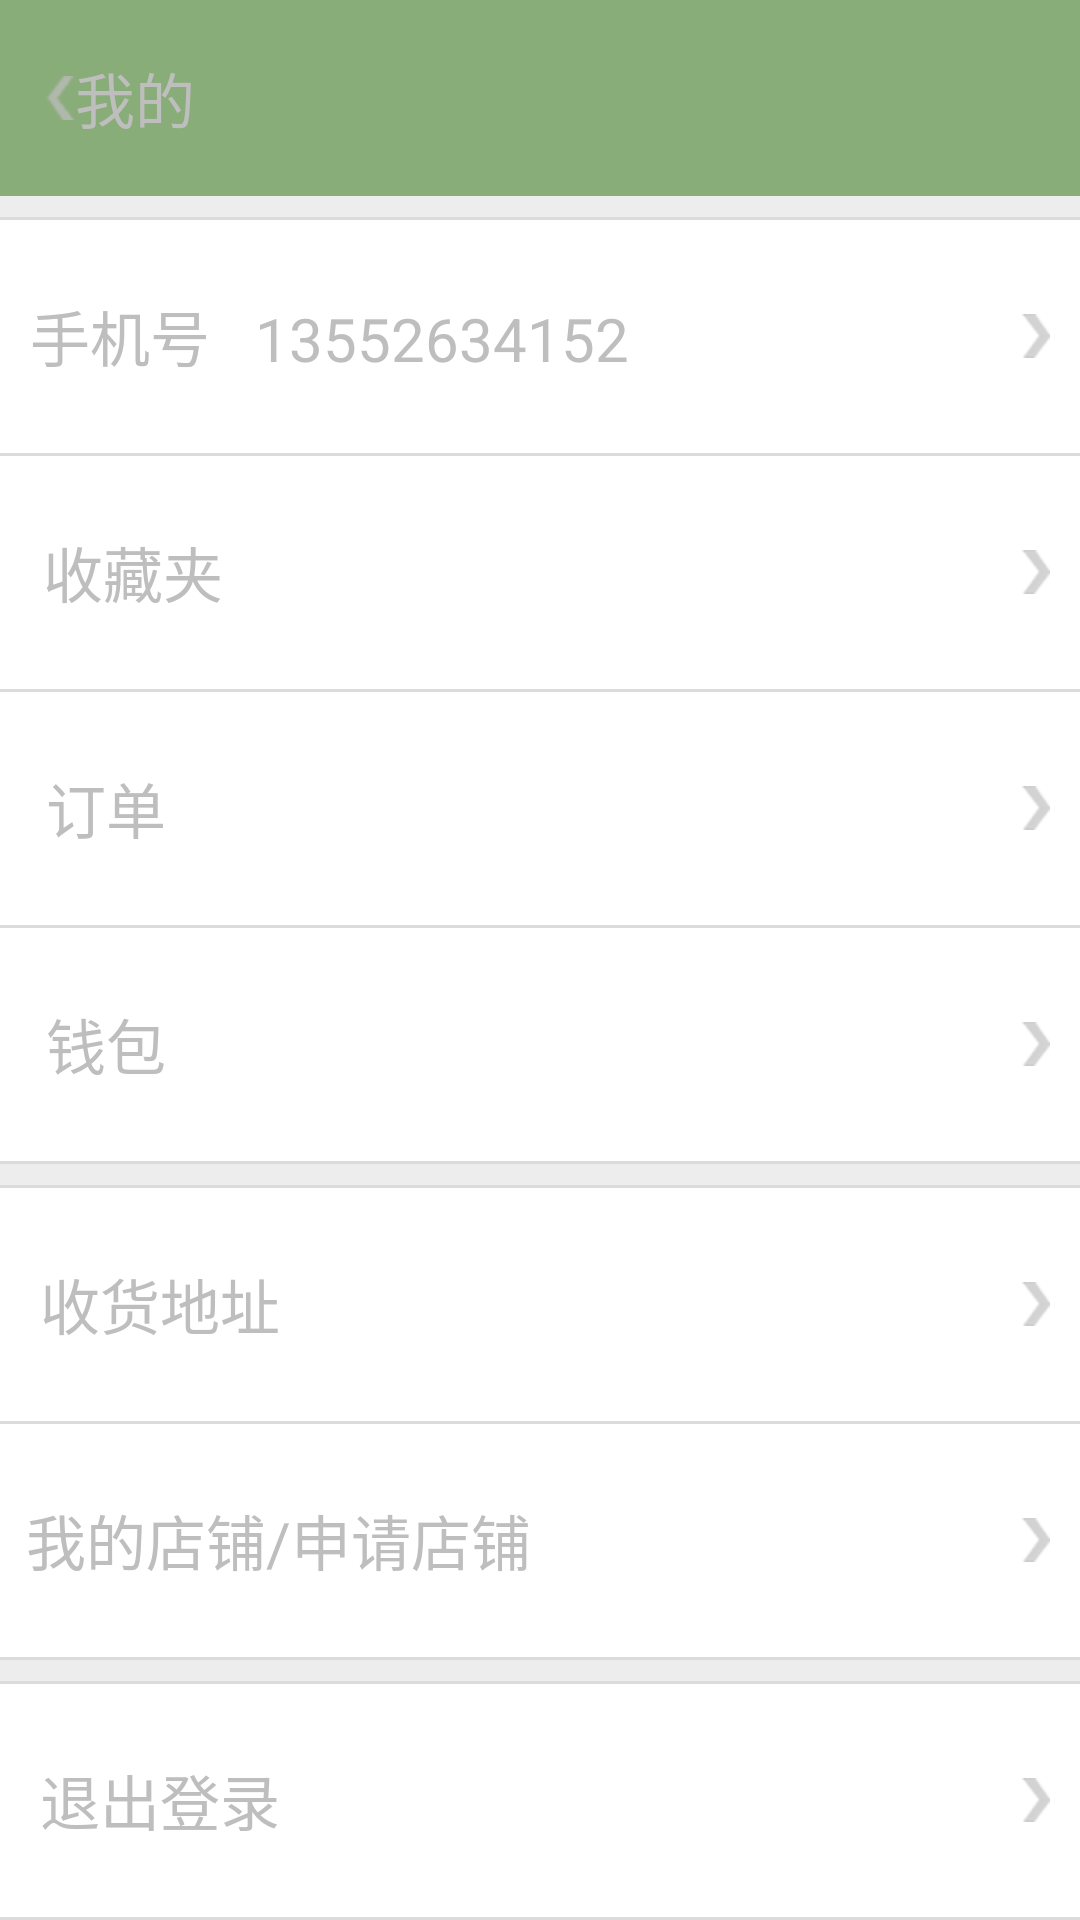

Point at icon controls on the screen. Image size 1080px×1920px, points as point (x, y).
arrow left: point (61, 98)
arrow right: point (1036, 336), point (1036, 572), point (1036, 808), point (1036, 1044), point (1036, 1304), point (1036, 1540), point (1036, 1800)
